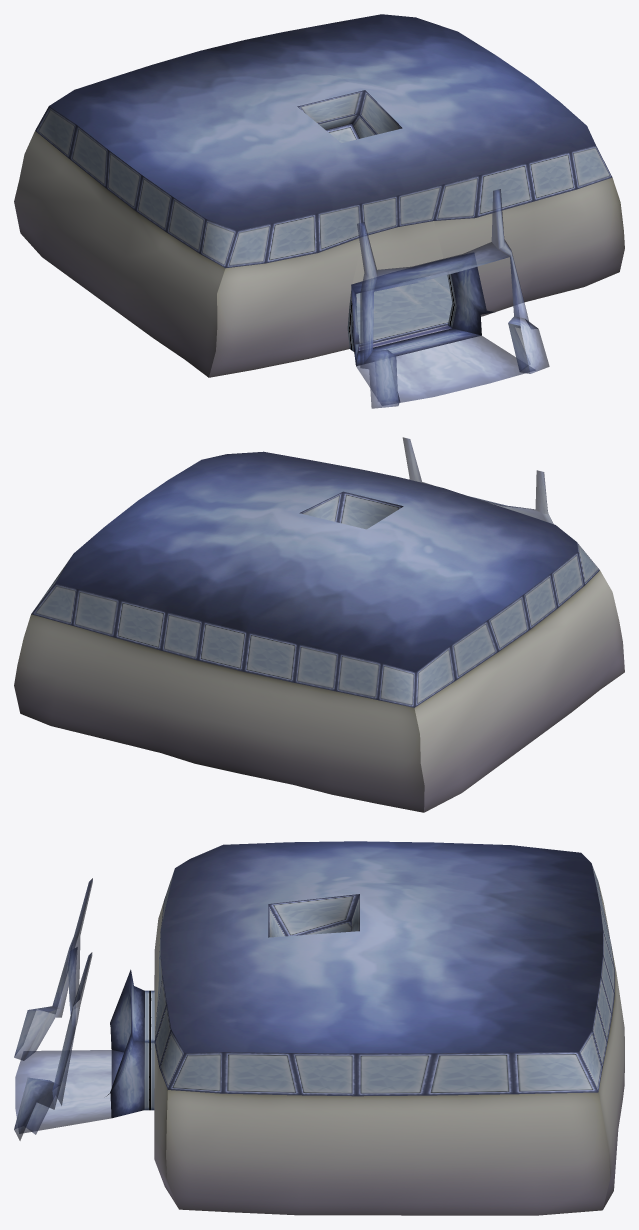
Rendered from dcs_lands_center_areamesh.DAE.
3 views of the same model, one above another, from view 1: azimuth 30°, elevation 25°; view 2: azimuth 150°, elevation 25°; view 3: azimuth 270°, elevation 25° (orthographic). The views are drawn at different scales.
Visible parts, largest first — view 1: Box02; view 2: Box02; view 3: Box02.
Boxes of the visible parts, bbox=[...] form: Box02: bbox=[14, 14, 624, 408]; Box02: bbox=[14, 437, 624, 812]; Box02: bbox=[14, 841, 624, 1215].
Size of the model in its own units: 46.14 by 17.68 by 50.73.
